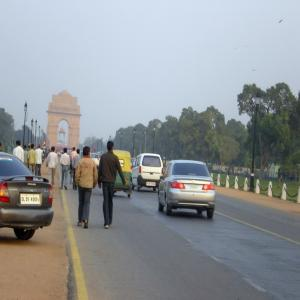Vehicle-registration-plate: (21, 194, 41, 205), (147, 182, 157, 187)
